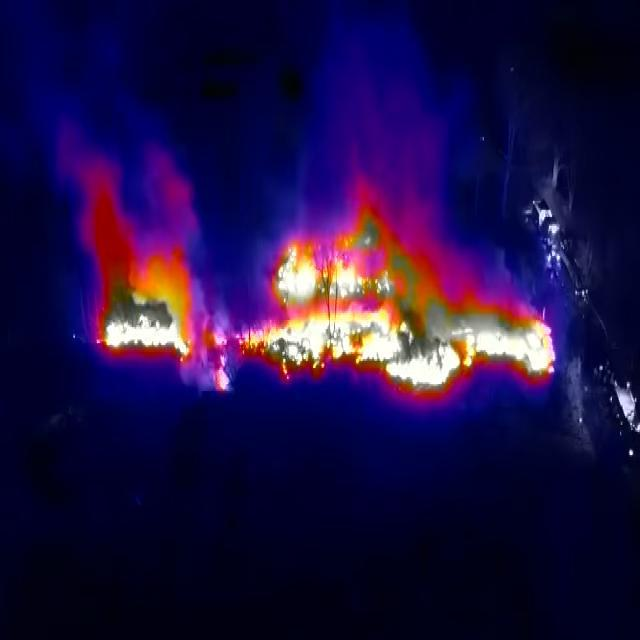fire: (207, 205, 557, 396), (93, 253, 196, 370)
